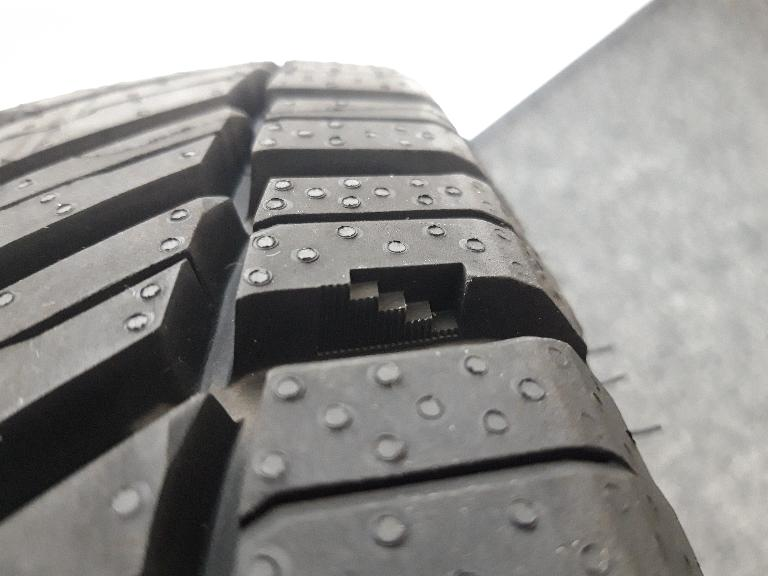temoin:100: (314, 260, 472, 358)
